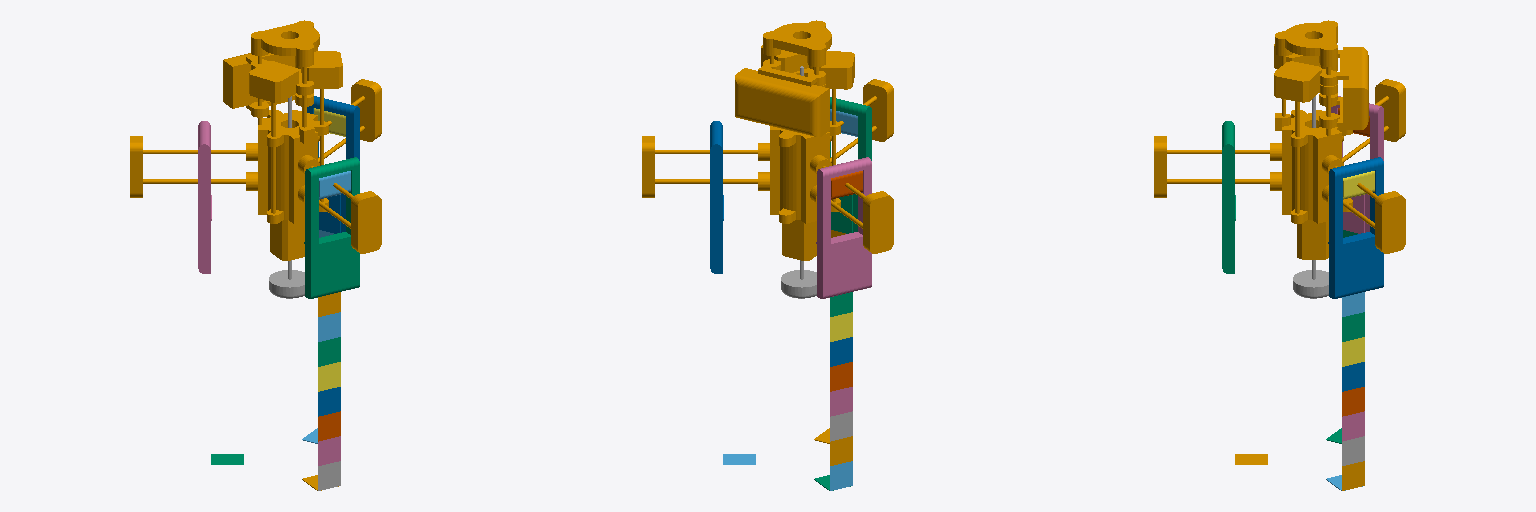
--- Render facts (derived) ---
3 views of the same robot in one strip: view 1: azimuth 30°, elevation 25°; view 2: azimuth 150°, elevation 25°; view 3: azimuth 270°, elevation 25° (orthographic).
Model gripper with 36 links and 35 joints (27 revolute, 4 prismatic, 4 fixed), rooted at world, posed all joints at 0 but 3 set to mid-range because 0 is outside their limits (finger_1_prismatic_joint = 0.0915, finger_2_prismatic_joint = 0.0915, finger_3_prismatic_joint = 0.0915).
Links seen in each view (by area): view 1: gripper_base_link, finger_1, finger_3, finger_2, palm, finger_1_intermediate, finger_1_segment_link_2, finger_1_segment_link_8, finger_1_segment_link_5, finger_1_segment_link_4, finger_1_segment_link_3, finger_1_segment_link_6 (+1 smaller); view 2: gripper_base_link, finger_3, finger_2, finger_1, palm, finger_3_intermediate, finger_3_segment_link_2, finger_3_segment_link_8, finger_3_segment_link_5, finger_3_segment_link_4, finger_3_segment_link_3, finger_3_segment_link_6 (+1 smaller); view 3: gripper_base_link, finger_2, finger_1, finger_3, palm, finger_2_intermediate, finger_2_segment_link_2, finger_2_segment_link_8, finger_2_segment_link_5, finger_2_segment_link_4, finger_2_segment_link_3, finger_2_segment_link_6 (+1 smaller).
Link boxes in pixels (<box>): gripper_base_link: <box>130,20,381,260</box>; finger_1: <box>304,157,359,298</box>; finger_3: <box>198,121,211,273</box>; finger_2: <box>307,96,359,233</box>; palm: <box>269,96,304,298</box>; finger_1_intermediate: <box>319,171,350,199</box>; finger_1_segment_link_2: <box>318,312,340,341</box>; finger_1_segment_link_8: <box>318,461,340,490</box>; finger_1_segment_link_5: <box>318,387,340,416</box>; finger_1_segment_link_4: <box>318,362,340,391</box>; finger_1_segment_link_3: <box>318,337,340,366</box>; finger_1_segment_link_6: <box>318,411,340,441</box>; gripper_base_link: <box>642,20,893,260</box>; finger_3: <box>816,157,871,298</box>; finger_2: <box>710,121,723,273</box>; finger_1: <box>830,97,871,233</box>; palm: <box>781,66,816,298</box>; finger_3_intermediate: <box>831,171,862,199</box>; finger_3_segment_link_2: <box>830,312,852,341</box>; finger_3_segment_link_8: <box>830,461,852,490</box>; finger_3_segment_link_5: <box>830,387,852,416</box>; finger_3_segment_link_4: <box>830,362,852,391</box>; finger_3_segment_link_3: <box>830,337,852,366</box>; finger_3_segment_link_6: <box>830,411,852,441</box>; gripper_base_link: <box>1154,20,1405,259</box>; finger_2: <box>1328,157,1383,298</box>; finger_1: <box>1222,121,1235,273</box>; finger_3: <box>1331,96,1383,233</box>; palm: <box>1293,96,1328,298</box>; finger_2_intermediate: <box>1343,171,1374,199</box>; finger_2_segment_link_2: <box>1342,312,1364,341</box>; finger_2_segment_link_8: <box>1342,461,1364,490</box>; finger_2_segment_link_5: <box>1342,387,1364,416</box>; finger_2_segment_link_4: <box>1342,362,1364,391</box>; finger_2_segment_link_3: <box>1342,337,1364,366</box>; finger_2_segment_link_6: <box>1342,411,1364,441</box>.
Size in the robot's own frame: 0.3116 by 0.2699 by 0.5023 metres.
8 mesh visuals loaded from 4 distinct referenced files (4 binary STL).

URDF robot description (gripper):
<?xml version="1.0" ?>
<!-- =================================================================================== -->
<!-- |    This document was autogenerated by xacro from gripper.urdf.xacro             | -->
<!-- |    EDITING THIS FILE BY HAND IS NOT RECOMMENDED                                 | -->
<!-- =================================================================================== -->
<robot name="gripper">
  <!-- PARAMETERS TO BE SET BY HAND -->
  <!-- END OF PARAMETERS TO BE SET BY HAND -->
  <!-- PARAMETERS TO BE SET BY HAND -->
  <!-- END OF PARAMETER TO BE SET BY HAND -->
  <!-- BASE LINK -->
  <link name="gripper_base_link">
    <inertial>
      <mass value="1.5"/>
      <origin rpy="3.141592653589793 0 0" xyz="0 0 0.025"/>
      <inertia ixx="9.95e-3" ixy="2.73e-6" ixz="-14.32e-6" iyy="10.08e-3" iyz="121.38e-6" izz="5.13e-3"/>
    </inertial>
    <visual>
      <geometry>
        <mesh filename="package://gripper_description/meshes/main body visual.STL"/>
      </geometry>
    </visual>
    <collision>
      <geometry>
        <!--          <mesh filename="package://gripper_description/meshes/main body collision.STL"/>-->
        <cylinder length="0.1" radius="0.03"/>
      </geometry>
    </collision>
  </link>
  <!-- Intermediate link for prismatic joint -->
  <link name="finger_1_intermediate">
    <inertial>
      <mass value="0.1"/>
      <origin rpy="0 0 0" xyz="0 0 0"/>
      <inertia ixx="55.59e-6" ixy="-47.23e-6" ixz="1.16e-6" iyy="146.36e-6" iyz="1.00e-6" izz="154.18e-6"/>
    </inertial>
    <visual>
      <geometry>
        <mesh filename="package://gripper_description/meshes/nut visual.STL"/>
      </geometry>
    </visual>
    <collision>
      <geometry>
        <mesh filename="package://gripper_description/meshes/nut collision.STL"/>
      </geometry>
    </collision>
  </link>
  <!-- Main finger link -->
  <link name="finger_1">
    <inertial>
      <mass value="0.1"/>
      <origin rpy="0 0 0" xyz="0 0 0"/>
      <inertia ixx="55.59e-6" ixy="-47.23e-6" ixz="1.16e-6" iyy="146.36e-6" iyz="1.00e-6" izz="154.18e-6"/>
    </inertial>
    <visual>
      <geometry>
        <mesh filename="package://gripper_description/meshes/platform only visual.STL"/>
      </geometry>
    </visual>
    <collision>
      <geometry>
        <mesh filename="package://gripper_description/meshes/platform only collision.STL"/>
      </geometry>
    </collision>
  </link>
  <joint name="finger_1_prismatic_joint" type="prismatic">
    <axis rpy="0 0 0" xyz="0 1 0"/>
    <parent link="gripper_base_link"/>
    <child link="finger_1_intermediate"/>
    <origin rpy="4.71238898038469                    4.71238898038469                    1.5707963267948966" xyz="0.0                    0.0                    0"/>
    <limit effort="40.0" lower="0.049" upper="0.134" velocity="0.015"/>
    <dynamics damping="1.0"/>
  </joint>
  <joint name="finger_1_revolute_joint" type="revolute">
    <axis rpy="0 0 0" xyz="0 0 1"/>
    <parent link="finger_1_intermediate"/>
    <child link="finger_1"/>
    <origin rpy="0 0 0.0" xyz="0 0 0"/>
    <limit effort="40.0" lower="-0.7" upper="0.7" velocity="0.1"/>
    <dynamics damping="1.0"/>
  </joint>
  <!-- Intermediate link for prismatic joint -->
  <link name="finger_2_intermediate">
    <inertial>
      <mass value="0.1"/>
      <origin rpy="0 0 0" xyz="0 0 0"/>
      <inertia ixx="55.59e-6" ixy="-47.23e-6" ixz="1.16e-6" iyy="146.36e-6" iyz="1.00e-6" izz="154.18e-6"/>
    </inertial>
    <visual>
      <geometry>
        <mesh filename="package://gripper_description/meshes/nut visual.STL"/>
      </geometry>
    </visual>
    <collision>
      <geometry>
        <mesh filename="package://gripper_description/meshes/nut collision.STL"/>
      </geometry>
    </collision>
  </link>
  <!-- Main finger link -->
  <link name="finger_2">
    <inertial>
      <mass value="0.1"/>
      <origin rpy="0 0 0" xyz="0 0 0"/>
      <inertia ixx="55.59e-6" ixy="-47.23e-6" ixz="1.16e-6" iyy="146.36e-6" iyz="1.00e-6" izz="154.18e-6"/>
    </inertial>
    <visual>
      <geometry>
        <mesh filename="package://gripper_description/meshes/platform only visual.STL"/>
      </geometry>
    </visual>
    <collision>
      <geometry>
        <mesh filename="package://gripper_description/meshes/platform only collision.STL"/>
      </geometry>
    </collision>
  </link>
  <joint name="finger_2_prismatic_joint" type="prismatic">
    <axis rpy="0 0 0" xyz="0 1 0"/>
    <parent link="gripper_base_link"/>
    <child link="finger_2_intermediate"/>
    <origin rpy="4.71238898038469                    4.71238898038469                    -0.5235987755982987" xyz="0.0                    -0.0                    0"/>
    <limit effort="40.0" lower="0.049" upper="0.134" velocity="0.015"/>
    <dynamics damping="1.0"/>
  </joint>
  <joint name="finger_2_revolute_joint" type="revolute">
    <axis rpy="0 0 0" xyz="0 0 1"/>
    <parent link="finger_2_intermediate"/>
    <child link="finger_2"/>
    <origin rpy="0 0 0.0" xyz="0 0 0"/>
    <limit effort="40.0" lower="-0.7" upper="0.7" velocity="0.1"/>
    <dynamics damping="1.0"/>
  </joint>
  <!-- Intermediate link for prismatic joint -->
  <link name="finger_3_intermediate">
    <inertial>
      <mass value="0.1"/>
      <origin rpy="0 0 0" xyz="0 0 0"/>
      <inertia ixx="55.59e-6" ixy="-47.23e-6" ixz="1.16e-6" iyy="146.36e-6" iyz="1.00e-6" izz="154.18e-6"/>
    </inertial>
    <visual>
      <geometry>
        <mesh filename="package://gripper_description/meshes/nut visual.STL"/>
      </geometry>
    </visual>
    <collision>
      <geometry>
        <mesh filename="package://gripper_description/meshes/nut collision.STL"/>
      </geometry>
    </collision>
  </link>
  <!-- Main finger link -->
  <link name="finger_3">
    <inertial>
      <mass value="0.1"/>
      <origin rpy="0 0 0" xyz="0 0 0"/>
      <inertia ixx="55.59e-6" ixy="-47.23e-6" ixz="1.16e-6" iyy="146.36e-6" iyz="1.00e-6" izz="154.18e-6"/>
    </inertial>
    <visual>
      <geometry>
        <mesh filename="package://gripper_description/meshes/platform only visual.STL"/>
      </geometry>
    </visual>
    <collision>
      <geometry>
        <mesh filename="package://gripper_description/meshes/platform only collision.STL"/>
      </geometry>
    </collision>
  </link>
  <joint name="finger_3_prismatic_joint" type="prismatic">
    <axis rpy="0 0 0" xyz="0 1 0"/>
    <parent link="gripper_base_link"/>
    <child link="finger_3_intermediate"/>
    <origin rpy="4.71238898038469                    4.71238898038469                    -2.617993877991494" xyz="-0.0                    -0.0                    0"/>
    <limit effort="40.0" lower="0.049" upper="0.134" velocity="0.015"/>
    <dynamics damping="1.0"/>
  </joint>
  <joint name="finger_3_revolute_joint" type="revolute">
    <axis rpy="0 0 0" xyz="0 0 1"/>
    <parent link="finger_3_intermediate"/>
    <child link="finger_3"/>
    <origin rpy="0 0 0.0" xyz="0 0 0"/>
    <limit effort="40.0" lower="-0.7" upper="0.7" velocity="0.1"/>
    <dynamics damping="1.0"/>
  </joint>
  <!-- PALM -->
  <link name="palm">
    <inertial>
      <mass value="0.05"/>
      <origin rpy="0 0 0" xyz="0 0 0"/>
      <inertia ixx="10.0e-6" ixy="0.0" ixz="0.0" iyy="10.0e-6" iyz="0.0" izz="10.0e-6"/>
    </inertial>
    <visual>
      <origin rpy="0 0 0" xyz="0 0 0"/>
      <geometry>
        <mesh filename="package://gripper_description/meshes/palm visual.STL"/>
      </geometry>
    </visual>
    <collision>
      <geometry>
        <mesh filename="package://gripper_description/meshes/palm collision.STL"/>
      </geometry>
    </collision>
  </link>
  <joint name="palm_prismatic_joint" type="prismatic">
    <axis rpy="0 0 0" xyz="1 0 0"/>
    <parent link="gripper_base_link"/>
    <child link="palm"/>
    <origin rpy="0 -1.5707963267948966 0" xyz="0 0 0"/>
    <limit effort="40.0" lower="0.0" upper="0.165" velocity="0.036"/>
    <dynamics damping="1.0"/>
  </joint>
  <!-- PARAMETERS TO BE SET BY HAND -->
  <!-- END OF PARAMETERS TO BE SET BY HAND -->
  <joint name="finger_1_segment_joint_0" type="revolute">
    <origin rpy="1.5707963267948966 0 0" xyz="0.129 -0.007 0"/>
    <parent link="finger_1"/>
    <child link="finger_1_segment_link_1"/>
    <axis rpy="0 0 0" xyz="0 1 0"/>
    <limit effort="1000.0" lower="-1.0" upper="1.0" velocity="1.0"/>
    <dynamics damping="0.01" friction="0.0"/>
  </joint>
  <!-- END TESTING OF BASE JOINT (rather than fixed) -->
  <link name="finger_1_segment_link_1">
    <inertial>
      <mass value="0.008159722222222221"/>
      <inertia ixx="2.668263165509259e-05" ixy="0.00" ixz="0.00" iyy="0.00011737666919849533" iyz="0.00" izz="0.00014400422272858792"/>
    </inertial>
    <visual>
      <origin rpy="0 0 0" xyz="0.0146875 0 0"/>
      <geometry>
        <box size="0.029375 0.028 0.0009"/>
      </geometry>
    </visual>
    <collision>
      <origin rpy="0 0 0" xyz="0.0146875 0 0"/>
      <geometry>
        <box size="0.029375 0.028 0.0009"/>
      </geometry>
    </collision>
  </link>
  <gazebo reference="finger_1_segment_link_1">
    <material>Gazebo/Orange</material>
    <mu1>0.1</mu1>
    <mu2>0.1</mu2>
    <maxVel>0.0</maxVel>
    <minDepth>0.001</minDepth>
    <!-- <kp>100</kp>
        <kd>1</kd> -->
  </gazebo>
  <link name="finger_1_segment_link_2">
    <inertial>
      <mass value="0.008159722222222221"/>
      <inertia ixx="2.668263165509259e-05" ixy="0.00" ixz="0.00" iyy="0.00011737666919849533" iyz="0.00" izz="0.00014400422272858792"/>
    </inertial>
    <visual>
      <origin rpy="0 0 0" xyz="0.0146875 0 0"/>
      <geometry>
        <box size="0.029375 0.028 0.0009"/>
      </geometry>
    </visual>
    <collision>
      <origin rpy="0 0 0" xyz="0.0146875 0 0"/>
      <geometry>
        <box size="0.029375 0.028 0.0009"/>
      </geometry>
    </collision>
  </link>
  <gazebo reference="finger_1_segment_link_2">
    <material>Gazebo/Orange</material>
    <mu1>0.1</mu1>
    <mu2>0.1</mu2>
    <maxVel>0.0</maxVel>
    <minDepth>0.001</minDepth>
    <!-- <kp>100</kp>
        <kd>1</kd> -->
  </gazebo>
  <!-- bending joint -->
  <joint name="finger_1_segment_joint_1" type="revolute">
    <axis rpy="0 0 0" xyz="0 1 0"/>
    <parent link="finger_1_segment_link_1"/>
    <child link="finger_1_segment_link_2"/>
    <origin rpy="0 0 0" xyz="0.029375 0 0"/>
    <limit effort="1000.0" lower="-1.0" upper="1.0" velocity="1.0"/>
    <dynamics damping="0.01" friction="0.0"/>
  </joint>
  <gazebo reference="finger_1_segment_joint_1">
    <provideFeedback>1</provideFeedback>
    <springReference>0.0</springReference>
    <implicitSpringDamper>1</implicitSpringDamper>
    <springStiffness>3.0</springStiffness>
  </gazebo>
  <!-- set transmission for gazebo ROS controllers-->
  <transmission name="finger_1_segment_tran_1">
    <type>transmission_interface/SimpleTransmission</type>
    <joint name="finger_1_segment_joint_1">
      <hardwareInterface>hardware_interface/EffortJointInterface</hardwareInterface>
    </joint>
    <actuator name="finger_1_segment_motor_1">
      <hardwareInterface>hardware_interface/EffortJointInterface</hardwareInterface>
      <mechanicalReduction>1</mechanicalReduction>
    </actuator>
  </transmission>
  <link name="finger_1_segment_link_3">
    <inertial>
      <mass value="0.008159722222222221"/>
      <inertia ixx="2.668263165509259e-05" ixy="0.00" ixz="0.00" iyy="0.00011737666919849533" iyz="0.00" izz="0.00014400422272858792"/>
    </inertial>
    <visual>
      <origin rpy="0 0 0" xyz="0.0146875 0 0"/>
      <geometry>
        <box size="0.029375 0.028 0.0009"/>
      </geometry>
    </visual>
    <collision>
      <origin rpy="0 0 0" xyz="0.0146875 0 0"/>
      <geometry>
        <box size="0.029375 0.028 0.0009"/>
      </geometry>
    </collision>
  </link>
  <gazebo reference="finger_1_segment_link_3">
    <material>Gazebo/Orange</material>
    <mu1>0.1</mu1>
    <mu2>0.1</mu2>
    <maxVel>0.0</maxVel>
    <minDepth>0.001</minDepth>
    <!-- <kp>100</kp>
        <kd>1</kd> -->
  </gazebo>
  <!-- bending joint -->
  <joint name="finger_1_segment_joint_2" type="revolute">
    <axis rpy="0 0 0" xyz="0 1 0"/>
    <parent link="finger_1_segment_link_2"/>
    <child link="finger_1_segment_link_3"/>
    <origin rpy="0 0 0" xyz="0.029375 0 0"/>
    <limit effort="1000.0" lower="-1.0" upper="1.0" velocity="1.0"/>
    <dynamics damping="0.01" friction="0.0"/>
  </joint>
  <gazebo reference="finger_1_segment_joint_2">
    <provideFeedback>1</provideFeedback>
    <springReference>0.0</springReference>
    <implicitSpringDamper>1</implicitSpringDamper>
    <springStiffness>3.0</springStiffness>
  </gazebo>
  <!-- set transmission for gazebo ROS controllers-->
  <transmission name="finger_1_segment_tran_2">
    <type>transmission_interface/SimpleTransmission</type>
    <joint name="finger_1_segment_joint_2">
      <hardwareInterface>hardware_interface/EffortJointInterface</hardwareInterface>
    </joint>
    <actuator name="finger_1_segment_motor_2">
      <hardwareInterface>hardware_interface/EffortJointInterface</hardwareInterface>
      <mechanicalReduction>1</mechanicalReduction>
    </actuator>
  </transmission>
  <link name="finger_1_segment_link_4">
    <inertial>
      <mass value="0.008159722222222221"/>
      <inertia ixx="2.668263165509259e-05" ixy="0.00" ixz="0.00" iyy="0.00011737666919849533" iyz="0.00" izz="0.00014400422272858792"/>
    </inertial>
    <visual>
      <origin rpy="0 0 0" xyz="0.0146875 0 0"/>
      <geometry>
        <box size="0.029375 0.028 0.0009"/>
      </geometry>
    </visual>
    <collision>
      <origin rpy="0 0 0" xyz="0.0146875 0 0"/>
      <geometry>
        <box size="0.029375 0.028 0.0009"/>
      </geometry>
    </collision>
  </link>
  <gazebo reference="finger_1_segment_link_4">
    <material>Gazebo/Orange</material>
    <mu1>0.1</mu1>
    <mu2>0.1</mu2>
    <maxVel>0.0</maxVel>
    <minDepth>0.001</minDepth>
    <!-- <kp>100</kp>
        <kd>1</kd> -->
  </gazebo>
  <!-- bending joint -->
  <joint name="finger_1_segment_joint_3" type="revolute">
    <axis rpy="0 0 0" xyz="0 1 0"/>
    <parent link="finger_1_segment_link_3"/>
    <child link="finger_1_segment_link_4"/>
    <origin rpy="0 0 0" xyz="0.029375 0 0"/>
    <limit effort="1000.0" lower="-1.0" upper="1.0" velocity="1.0"/>
    <dynamics damping="0.01" friction="0.0"/>
  </joint>
  <gazebo reference="finger_1_segment_joint_3">
    <provideFeedback>1</provideFeedback>
    <springReference>0.0</springReference>
    <implicitSpringDamper>1</implicitSpringDamper>
    <springStiffness>3.0</springStiffness>
  </gazebo>
  <!-- set transmission for gazebo ROS controllers-->
  <transmission name="finger_1_segment_tran_3">
    <type>transmission_interface/SimpleTransmission</type>
    <joint name="finger_1_segment_joint_3">
      <hardwareInterface>hardware_interface/EffortJointInterface</hardwareInterface>
    </joint>
    <actuator name="finger_1_segment_motor_3">
      <hardwareInterface>hardware_interface/EffortJointInterface</hardwareInterface>
      <mechanicalReduction>1</mechanicalReduction>
    </actuator>
  </transmission>
  <link name="finger_1_segment_link_5">
    <inertial>
      <mass value="0.008159722222222221"/>
      <inertia ixx="2.668263165509259e-05" ixy="0.00" ixz="0.00" iyy="0.00011737666919849533" iyz="0.00" izz="0.00014400422272858792"/>
    </inertial>
    <visual>
      <origin rpy="0 0 0" xyz="0.0146875 0 0"/>
      <geometry>
        <box size="0.029375 0.028 0.0009"/>
      </geometry>
    </visual>
    <collision>
      <origin rpy="0 0 0" xyz="0.0146875 0 0"/>
      <geometry>
        <box size="0.029375 0.028 0.0009"/>
      </geometry>
    </collision>
  </link>
  <gazebo reference="finger_1_segment_link_5">
    <material>Gazebo/Orange</material>
    <mu1>0.1</mu1>
    <mu2>0.1</mu2>
    <maxVel>0.0</maxVel>
    <minDepth>0.001</minDepth>
    <!-- <kp>100</kp>
        <kd>1</kd> -->
  </gazebo>
  <!-- bending joint -->
  <joint name="finger_1_segment_joint_4" type="revolute">
    <axis rpy="0 0 0" xyz="0 1 0"/>
    <parent link="finger_1_segment_link_4"/>
    <child link="finger_1_segment_link_5"/>
    <origin rpy="0 0 0" xyz="0.029375 0 0"/>
    <limit effort="1000.0" lower="-1.0" upper="1.0" velocity="1.0"/>
    <dynamics damping="0.01" friction="0.0"/>
  </joint>
  <gazebo reference="finger_1_segment_joint_4">
    <provideFeedback>1</provideFeedback>
    <springReference>0.0</springReference>
    <implicitSpringDamper>1</implicitSpringDamper>
    <springStiffness>3.0</springStiffness>
  </gazebo>
  <!-- set transmission for gazebo ROS controllers-->
  <transmission name="finger_1_segment_tran_4">
    <type>transmission_interface/SimpleTransmission</type>
    <joint name="finger_1_segment_joint_4">
      <hardwareInterface>hardware_interface/EffortJointInterface</hardwareInterface>
    </joint>
    <actuator name="finger_1_segment_motor_4">
      <hardwareInterface>hardware_interface/EffortJointInterface</hardwareInterface>
      <mechanicalReduction>1</mechanicalReduction>
    </actuator>
  </transmission>
  <link name="finger_1_segment_link_6">
    <inertial>
      <mass value="0.008159722222222221"/>
      <inertia ixx="2.668263165509259e-05" ixy="0.00" ixz="0.00" iyy="0.00011737666919849533" iyz="0.00" izz="0.00014400422272858792"/>
    </inertial>
    <visual>
      <origin rpy="0 0 0" xyz="0.0146875 0 0"/>
      <geometry>
        <box size="0.029375 0.028 0.0009"/>
      </geometry>
    </visual>
    <collision>
      <origin rpy="0 0 0" xyz="0.0146875 0 0"/>
      <geometry>
        <box size="0.029375 0.028 0.0009"/>
      </geometry>
    </collision>
  </link>
  <gazebo reference="finger_1_segment_link_6">
    <material>Gazebo/Orange</material>
    <mu1>0.1</mu1>
    <mu2>0.1</mu2>
    <maxVel>0.0</maxVel>
    <minDepth>0.001</minDepth>
    <!-- <kp>100</kp>
        <kd>1</kd> -->
  </gazebo>
  <!-- bending joint -->
  <joint name="finger_1_segment_joint_5" type="revolute">
    <axis rpy="0 0 0" xyz="0 1 0"/>
    <parent link="finger_1_segment_link_5"/>
    <child link="finger_1_segment_link_6"/>
    <origin rpy="0 0 0" xyz="0.029375 0 0"/>
    <limit effort="1000.0" lower="-1.0" upper="1.0" velocity="1.0"/>
    <dynamics damping="0.01" friction="0.0"/>
  </joint>
  <gazebo reference="finger_1_segment_joint_5">
    <provideFeedback>1</provideFeedback>
    <springReference>0.0</springReference>
    <implicitSpringDamper>1</implicitSpringDamper>
    <springStiffness>3.0</springStiffness>
  </gazebo>
  <!-- set transmission for gazebo ROS controllers-->
  <transmission name="finger_1_segment_tran_5">
    <type>transmission_interface/SimpleTransmission</type>
    <joint name="finger_1_segment_joint_5">
      <hardwareInterface>hardware_interface/EffortJointInterface</hardwareInterface>
    </joint>
    <actuator name="finger_1_segment_motor_5">
      <hardwareInterface>hardware_interface/EffortJointInterface</hardwareInterface>
      <mechanicalReduction>1</mechanicalReduction>
    </actuator>
  </transmission>
  <link name="finger_1_segment_link_7">
    <inertial>
      <mass value="0.008159722222222221"/>
      <inertia ixx="2.668263165509259e-05" ixy="0.00" ixz="0.00" iyy="0.00011737666919849533" iyz="0.00" izz="0.00014400422272858792"/>
    </inertial>
    <visual>
      <origin rpy="0 0 0" xyz="0.0146875 0 0"/>
      <geometry>
        <box size="0.029375 0.028 0.0009"/>
      </geometry>
    </visual>
    <collision>
      <origin rpy="0 0 0" xyz="0.0146875 0 0"/>
      <geometry>
        <box size="0.029375 0.028 0.0009"/>
      </geometry>
    </collision>
  </link>
  <gazebo reference="finger_1_segment_link_7">
    <material>Gazebo/Orange</material>
    <mu1>0.1</mu1>
    <mu2>0.1</mu2>
    <maxVel>0.0</maxVel>
    <minDepth>0.001</minDepth>
    <!-- <kp>100</kp>
        <kd>1</kd> -->
  </gazebo>
  <!-- bending joint -->
  <joint name="finger_1_segment_joint_6" type="revolute">
    <axis rpy="0 0 0" xyz="0 1 0"/>
    <parent link="finger_1_segment_link_6"/>
    <child link="finger_1_segment_link_7"/>
    <origin rpy="0 0 0" xyz="0.029375 0 0"/>
    <limit effort="1000.0" lower="-1.0" upper="1.0" velocity="1.0"/>
    <dynamics damping="0.01" friction="0.0"/>
  </joint>
  <gazebo reference="finger_1_segment_joint_6">
    <provideFeedback>1</provideFeedback>
    <springReference>0.0</springReference>
    <implicitSpringDamper>1</implicitSpringDamper>
    <springStiffness>3.0</springStiffness>
  </gazebo>
  <!-- set transmission for gazebo ROS controllers-->
  <transmission name="finger_1_segment_tran_6">
    <type>transmission_interface/SimpleTransmission</type>
    <joint name="finger_1_segment_joint_6">
      <hardwareInterface>hardware_interface/EffortJointInterface</hardwareInterface>
    </joint>
    <actuator name="finger_1_segment_motor_6">
      <hardwareInterface>hardware_interface/EffortJointInterface</hardwareInterface>
      <mechanicalReduction>1</mechanicalReduction>
    </actuator>
  </transmission>
  <link name="finger_1_segment_link_8">
    <inertial>
      <mass value="0.008159722222222221"/>
      <inertia ixx="2.668263165509259e-05" ixy="0.00" ixz="0.00" iyy="0.00011737666919849533" iyz="0.00" izz="0.00014400422272858792"/>
    </inertial>
    <visual>
      <origin rpy="0 0 0" xyz="0.0146875 0 0"/>
      <geometry>
        <box size="0.029375 0.028 0.0009"/>
      </geometry>
    </visual>
    <collision>
      <origin rpy="0 0 0" xyz="0.0146875 0 0"/>
      <geometry>
        <box size="0.029375 0.028 0.0009"/>
      </geometry>
    </collision>
  </link>
  <gazebo reference="finger_1_segment_link_8">
    <material>Gazebo/Orange</material>
    <mu1>0.1</mu1>
    <mu2>0.1</mu2>
    <maxVel>0.0</maxVel>
    <minDepth>0.001</minDepth>
    <!-- <kp>100</kp>
        <kd>1</kd> -->
  </gazebo>
  <!-- bending joint -->
  <joint name="finger_1_segment_joint_7" type="revolute">
    <axis rpy="0 0 0" xyz="0 1 0"/>
    <parent link="finger_1_segment_link_7"/>
    <child link="finger_1_segment_link_8"/>
    <origin rpy="0 0 0" xyz="0.029375 0 0"/>
    <limit effort="1000.0" lower="-1.0" upper="1.0" velocity="1.0"/>
    <dynamics damping="0.01" friction="0.0"/>
  </joint>
  <gazebo reference="finger_1_segment_joint_7">
    <provideFeedback>1</provideFeedback>
    <springReference>0.0</springReference>
    <implicitSpringDamper>1</implicitSpringDamper>
    <springStiffness>3.0</springStiffness>
  </gazebo>
  <!-- set transmission for gazebo ROS controllers-->
  <transmission name="finger_1_segment_tran_7">
    <type>transmission_interface/SimpleTransmission</type>
    <joint name="finger_1_segment_joint_7">
      <hardwareInterface>hardware_interface/EffortJointInterface</hardwareInterface>
    </joint>
    <actuator name="finger_1_segment_motor_7">
      <hardwareInterface>hardware_interface/EffortJointInterface</hardwareInterface>
      <mechanicalReduction>1</mechanicalReduction>
    </actuator>
  </transmission>
  <!-- Add the finger hook link -->
  <link name="finger_1_finger_hook_link">
    <inertial>
      <mass value="0.009722222222222222"/>
      <inertia ixx="3.179207175925926e-05" ixy="0.00" ixz="0.00" iyy="0.00019852818287037038" iyz="0.00" izz="0.00023025462962962965"/>
    </inertial>
    <visual>
      <origin rpy="0 0 0" xyz="0.0175 0 0"/>
      <geometry>
        <box size="0.035 0.028 0.0009"/>
      </geometry>
    </visual>
    <collision>
      <origin rpy="0 0 0" xyz="0.0175 0 0"/>
      <geometry>
        <box size="0.035 0.028 0.0009"/>
      </geometry>
    </collision>
  </link>
  <gazebo reference="finger_1_finger_hook_link">
    <material>Gazebo/Orange</material>
    <mu1>0.1</mu1>
    <mu2>0.1</mu2>
    <maxVel>0.0</maxVel>
    <minDepth>0.001</minDepth>
    <!-- <kp>100</kp>
        <kd>1</kd> -->
  </gazebo>
  <joint name="finger_1_finger_hook_joint" type="fixed">
    <parent link="finger_1_segment_link_8"/>
    <child link="finger_1_finger_hook_link"/>
    <origin rpy="0 -1.5707963267948502 0" xyz="0.029375 0 0"/>
  </joint>
  <!-- PARAMETERS TO BE SET BY HAND -->
  <!-- END OF PARAMETERS TO BE SET BY HAND -->
  <joint name="finger_2_segment_joint_0" type="revolute">
    <origin rpy="1.5707963267948966 0 0" xyz="0.129 -0.007 0"/>
    <parent link="finger_2"/>
    <child link="finger_2_segment_link_1"/>
    <axis rpy="0 0 0" xyz="0 1 0"/>
    <limit effort="1000.0" lower="-1.0" upper="1.0" velocity="1.0"/>
    <dynamics damping="0.01" friction="0.0"/>
  </joint>
  <!-- END TESTING OF BASE JOINT (rather than fixed) -->
  <link name="finger_2_segment_link_1">
    <inertial>
      <mass value="0.008159722222222221"/>
      <inertia ixx="2.668263165509259e-05" ixy="0.00" ixz="0.00" iyy="0.00011737666919849533" iyz="0.00" izz="0.00014400422272858792"/>
    </inertial>
    <visual>
      <origin rpy="0 0 0" xyz="0.0146875 0 0"/>
      <geometry>
        <box size="0.029375 0.028 0.0009"/>
      </geometry>
    </visual>
    <collision>
      <origin rpy="0 0 0" xyz="0.0146875 0 0"/>
      <geometry>
        <box size="0.029375 0.028 0.0009"/>
      </geometry>
    </collision>
  </link>
  <gazebo reference="finger_2_segment_link_1">
    <material>Gazebo/Orange</material>
    <mu1>0.1</mu1>
    <mu2>0.1</mu2>
    <maxVel>0.0</maxVel>
    <minDepth>0.001</minDepth>
    <!-- <kp>100</kp>
        <kd>1</kd> -->
  </gazebo>
  <link name="finger_2_segment_link_2">
    <inertial>
      <mass value="0.008159722222222221"/>
      <inertia ixx="2.668263165509259e-05" ixy="0.00" ixz="0.00" iyy="0.00011737666919849533" iyz="0.00" izz="0.00014400422272858792"/>
    </inertial>
    <visual>
      <origin rpy="0 0 0" xyz="0.0146875 0 0"/>
      <geometry>
        <box size="0.029375 0.028 0.0009"/>
      </geometry>
    </visual>
    <collision>
      <origin rpy="0 0 0" xyz="0.0146875 0 0"/>
      <geometry>
        <box size="0.029375 0.028 0.0009"/>
      </geometry>
    </collision>
  </link>
  <gazebo reference="finger_2_segment_link_2">
    <material>Gazebo/Orange</material>
    <mu1>0.1</mu1>
    <mu2>0.1</mu2>
    <maxVel>0.0</maxVel>
    <minDepth>0.001</minDepth>
    <!-- <kp>100</kp>
        <kd>1</kd> -->
  </gazebo>
  <!-- bending joint -->
  <joint name="finger_2_segment_joint_1" type="revolute">
    <axis rpy="0 0 0" xyz="0 1 0"/>
    <parent link="finger_2_segment_link_1"/>
    <child link="finger_2_segment_link_2"/>
    <origin rpy="0 0 0" xyz="0.029375 0 0"/>
    <limit effort="1000.0" lower="-1.0" upper="1.0" velocity="1.0"/>
    <dynamics damping="0.01" friction="0.0"/>
  </joint>
  <gazebo reference="finger_2_segment_joint_1">
    <provideFeedback>1</provideFeedback>
    <springReference>0.0</springReference>
    <implicitSpringDamper>1</implicitSpringDamper>
    <springStiffness>3.0</springStiffness>
  </gazebo>
  <!-- set transmission for gazebo ROS controllers-->
  <transmission name="finger_2_segment_tran_1">
    <type>transmission_interface/SimpleTransmission</type>
    <joint name="finger_2_segment_joint_1">
      <hardwareInterface>hardware_interface/EffortJointInterface</hardwareInterface>
    </joint>
    <actuator name="finger_2_segment_motor_1">
      <hardwareInterface>hardware_interface/EffortJointInterface</hardwareInterface>
      <mechanicalReduction>1</mechanicalReduction>
    </actuator>
  </transmission>
  <link name="finger_2_segment_link_3">
    <inertial>
      <mass value="0.008159722222222221"/>
      <inertia ixx="2.668263165509259e-05" ixy="0.00" ixz="0.00" iyy="0.00011737666919849533" iyz="0.00" izz="0.00014400422272858792"/>
    </inertial>
    <visual>
      <origin rpy="0 0 0" xyz="0.0146875 0 0"/>
      <geometry>
        <box size="0.029375 0.028 0.0009"/>
      </geometry>
    </visual>
    <collision>
      <origin rpy="0 0 0" xyz="0.0146875 0 0"/>
      <geometry>
        <box size="0.029375 0.028 0.0009"/>
      </geometry>
    </collision>
  </link>
  <gazebo reference="finger_2_segment_link_3">
    <material>Gazebo/Orange</material>
    <mu1>0.1</mu1>
    <mu2>0.1</mu2>
    <maxVel>0.0</maxVel>
    <minDepth>0.001</minDepth>
    <!-- <kp>100</kp>
        <kd>1</kd> -->
  </gazebo>
  <!-- bending joint -->
  <joint name="finger_2_segment_joint_2" type="revolute">
    <axis rpy="0 0 0" xyz="0 1 0"/>
    <parent link="finger_2_segment_link_2"/>
    <child link="finger_2_segment_link_3"/>
    <origin rpy="0 0 0" xyz="0.029375 0 0"/>
    <limit effort="1000.0" lower="-1.0" upper="1.0" velocity="1.0"/>
    <dynamics damping="0.01" friction="0.0"/>
  </joint>
  <gazebo reference="finger_2_segment_joint_2">
    <provideFeedback>1</provideFeedback>
    <springReference>0.0</springReference>
    <implicitSpringDamper>1</implicitSpringDamper>
    <springStiffness>3.0</springStiffness>
  </gazebo>
  <!-- set transmission for gazebo ROS controllers-->
  <transmission name="finger_2_segment_tran_2">
    <type>transmission_interface/SimpleTransmission</type>
    <joint name="finger_2_segment_joint_2">
      <hardwareInterface>hardware_interface/EffortJointInterface</hardwareInterface>
    </joint>
    <actuator name="finger_2_segment_motor_2">
      <hardwareInterface>hardware_interface/EffortJointInterface</hardwareInterface>
      <mechanicalReduction>1</mechanicalReduction>
    </actuator>
  </transmission>
  <link name="finger_2_segment_link_4">
    <inertial>
      <mass value="0.008159722222222221"/>
      <inertia ixx="2.668263165509259e-05" ixy="0.00" ixz="0.00" iyy="0.00011737666919849533" iyz="0.00" izz="0.00014400422272858792"/>
    </inertial>
    <visual>
      <origin rpy="0 0 0" xyz="0.0146875 0 0"/>
      <geometry>
        <box size="0.029375 0.028 0.0009"/>
      </geometry>
    </visual>
    <collision>
      <origin rpy="0 0 0" xyz="0.0146875 0 0"/>
      <geometry>
        <box size="0.029375 0.028 0.0009"/>
      </geometry>
    </collision>
  </link>
  <gazebo reference="finger_2_segment_link_4">
    <material>Gazebo/Orange</material>
    <mu1>0.1</mu1>
    <mu2>0.1</mu2>
    <maxVel>0.0</maxVel>
    <minDepth>0.001</minDepth>
    <!-- <kp>100</kp>
        <kd>1</kd> -->
  </gazebo>
  <!-- bending joint -->
  <joint name="finger_2_segment_joint_3" type="revolute">
    <axis rpy="0 0 0" xyz="0 1 0"/>
    <parent link="finger_2_segment_link_3"/>
    <child link="finger_2_segment_link_4"/>
    <origin rpy="0 0 0" xyz="0.029375 0 0"/>
    <limit effort="1000.0" lower="-1.0" upper="1.0" velocity="1.0"/>
    <dynamics damping="0.01" friction="0.0"/>
  </joint>
  <gazebo reference="finger_2_segment_joint_3">
    <provideFeedback>1</provideFeedback>
    <springReference>0.0</springReference>
    <implicitSpringDamper>1</implicitSpringDamper>
    <springStiffness>3.0</springStiffness>
  </gazebo>
  <!-- set transmission for gazebo ROS controllers-->
  <transmission name="finger_2_segment_tran_3">
    <type>transmission_interface/SimpleTransmission</type>
    <joint name="finger_2_segment_joint_3">
      <hardwareInterface>hardware_interface/EffortJointInterface</hardwareInterface>
    </joint>
    <actuator name="finger_2_segment_motor_3">
      <hardwareInterface>hardware_interface/EffortJointInterface</hardwareInterface>
      <mechanicalReduction>1</mechanicalReduction>
    </actuator>
  </transmission>
  <link name="finger_2_segment_link_5">
    <inertial>
      <mass value="0.008159722222222221"/>
      <inertia ixx="2.668263165509259e-05" ixy="0.00" ixz="0.00" iyy="0.00011737666919849533" iyz="0.00" izz="0.00014400422272858792"/>
    </inertial>
    <visual>
      <origin rpy="0 0 0" xyz="0.0146875 0 0"/>
      <geometry>
        <box size="0.029375 0.028 0.0009"/>
      </geometry>
    </visual>
    <collision>
      <origin rpy="0 0 0" xyz="0.0146875 0 0"/>
      <geometry>
        <box size="0.029375 0.028 0.0009"/>
      </geometry>
    </collision>
  </link>
  <gazebo reference="finger_2_segment_link_5">
    <material>Gazebo/Orange</material>
    <mu1>0.1</mu1>
    <mu2>0.1</mu2>
    <maxVel>0.0</maxVel>
    <minDepth>0.001</minDepth>
    <!-- <kp>100</kp>
        <kd>1</kd> -->
  </gazebo>
  <!-- bending joint -->
  <joint name="finger_2_segment_joint_4" type="revolute">
    <axis rpy="0 0 0" xyz="0 1 0"/>
    <parent link="finger_2_segment_link_4"/>
    <child link="finger_2_segment_link_5"/>
    <origin rpy="0 0 0" xyz="0.029375 0 0"/>
    <limit effort="1000.0" lower="-1.0" upper="1.0" velocity="1.0"/>
    <dynamics damping="0.01" friction="0.0"/>
  </joint>
  <gazebo reference="finger_2_segment_joint_4">
    <provideFeedback>1</provideFeedback>
    <springReference>0.0</springReference>
    <implicitSpringDamper>1</implicitSpringDamper>
    <springStiffness>3.0</springStiffness>
  </gazebo>
  <!-- set transmission for gazebo ROS controllers-->
  <transmission name="finger_2_segment_tran_4">
    <type>transmission_interface/SimpleTransmission</type>
    <joint name="finger_2_segment_joint_4">
      <hardwareInterface>hardware_interface/EffortJointInterface</hardwareInterface>
    </joint>
    <actuator name="finger_2_segment_motor_4">
      <hardwareInterface>hardware_interface/EffortJointInterface</hardwareInterface>
      <mechanicalReduction>1</mechanicalReduction>
    </actuator>
  </transmission>
  <link name="finger_2_segment_link_6">
    <inertial>
      <mass value="0.008159722222222221"/>
      <inertia ixx="2.668263165509259e-05" ixy="0.00" ixz="0.00" iyy="0.00011737666919849533" iyz="0.00" izz="0.00014400422272858792"/>
    </inertial>
    <visual>
      <origin rpy="0 0 0" xyz="0.0146875 0 0"/>
      <geometry>
        <box size="0.029375 0.028 0.0009"/>
      </geometry>
    </visual>
    <collision>
      <origin rpy="0 0 0" xyz="0.0146875 0 0"/>
      <geometry>
        <box size="0.029375 0.028 0.0009"/>
      </geometry>
    </collision>
  </link>
  <gazebo reference="finger_2_segment_link_6">
    <material>Gazebo/Orange</material>
    <mu1>0.1</mu1>
    <mu2>0.1</mu2>
    <maxVel>0.0</maxVel>
    <minDepth>0.001</minDepth>
    <!-- <kp>100</kp>
        <kd>1</kd> -->
  </gazebo>
  <!-- bending joint -->
  <joint name="finger_2_segment_joint_5" type="revolute">
    <axis rpy="0 0 0" xyz="0 1 0"/>
    <parent link="finger_2_segment_link_5"/>
    <child link="finger_2_segment_link_6"/>
    <origin rpy="0 0 0" xyz="0.029375 0 0"/>
    <limit effort="1000.0" lower="-1.0" upper="1.0" velocity="1.0"/>
    <dynamics damping="0.01" friction="0.0"/>
  </joint>
  <gazebo reference="finger_2_segment_joint_5">
    <provideFeedback>1</provideFeedback>
    <springReference>0.0</springReference>
    <implicitSpringDamper>1</implicitSpringDamper>
    <springStiffness>3.0</springStiffness>
  </gazebo>
  <!-- set transmission for gazebo ROS controllers-->
  <transmission name="finger_2_segment_tran_5">
    <type>transmission_interface/SimpleTransmission</type>
    <joint name="finger_2_segment_joint_5">
      <hardwareInterface>hardware_interface/EffortJointInterface</hardwareInterface>
    </joint>
    <actuator name="finger_2_segment_motor_5">
      <hardwareInterface>hardware_interface/EffortJointInterface</hardwareInterface>
      <mechanicalReduction>1</mechanicalReduction>
    </actuator>
  </transmission>
  <link name="finger_2_segment_link_7">
    <inertial>
      <mass value="0.008159722222222221"/>
      <inertia ixx="2.668263165509259e-05" ixy="0.00" ixz="0.00" iyy="0.00011737666919849533" iyz="0.00" izz="0.00014400422272858792"/>
    </inertial>
    <visual>
      <origin rpy="0 0 0" xyz="0.0146875 0 0"/>
      <geometry>
        <box size="0.029375 0.028 0.0009"/>
      </geometry>
    </visual>
    <collision>
      <origin rpy="0 0 0" xyz="0.0146875 0 0"/>
      <geometry>
        <box size="0.029375 0.028 0.0009"/>
      </geometry>
    </collision>
  </link>
  <gazebo reference="finger_2_segment_link_7">
    <material>Gazebo/Orange</material>
    <mu1>0.1</mu1>
    <mu2>0.1</mu2>
    <maxVel>0.0</maxVel>
    <minDepth>0.001</minDepth>
    <!-- <kp>100</kp>
        <kd>1</kd> -->
  </gazebo>
  <!-- bending joint -->
  <joint name="finger_2_segment_joint_6" type="revolute">
    <axis rpy="0 0 0" xyz="0 1 0"/>
    <parent link="finger_2_segment_link_6"/>
    <child link="finger_2_segment_link_7"/>
    <origin rpy="0 0 0" xyz="0.029375 0 0"/>
    <limit effort="1000.0" lower="-1.0" upper="1.0" velocity="1.0"/>
    <dynamics damping="0.01" friction="0.0"/>
  </joint>
  <gazebo reference="finger_2_segment_joint_6">
    <provideFeedback>1</provideFeedback>
    <springReference>0.0</springReference>
    <implicitSpringDamper>1</implicitSpringDamper>
    <springStiffness>3.0</springStiffness>
  </gazebo>
  <!-- set transmission for gazebo ROS controllers-->
  <transmission name="finger_2_segment_tran_6">
    <type>transmission_interface/SimpleTransmission</type>
    <joint name="finger_2_segment_joint_6">
      <hardwareInterface>hardware_interface/EffortJointInterface</hardwareInterface>
    </joint>
    <actuator name="finger_2_segment_motor_6">
      <hardwareInterface>hardware_interface/EffortJointInterface</hardwareInterface>
      <mechanicalReduction>1</mechanicalReduction>
    </actuator>
  </transmission>
  <link name="finger_2_segment_link_8">
    <inertial>
      <mass value="0.008159722222222221"/>
      <inertia ixx="2.668263165509259e-05" ixy="0.00" ixz="0.00" iyy="0.00011737666919849533" iyz="0.00" izz="0.00014400422272858792"/>
    </inertial>
    <visual>
      <origin rpy="0 0 0" xyz="0.0146875 0 0"/>
      <geometry>
        <box size="0.029375 0.028 0.0009"/>
      </geometry>
    </visual>
    <collision>
      <origin rpy="0 0 0" xyz="0.0146875 0 0"/>
      <geometry>
        <box size="0.029375 0.028 0.0009"/>
      </geometry>
    </collision>
  </link>
  <gazebo reference="finger_2_segment_link_8">
    <material>Gazebo/Orange</material>
    <mu1>0.1</mu1>
    <mu2>0.1</mu2>
    <maxVel>0.0</maxVel>
    <minDepth>0.001</minDepth>
    <!-- <kp>100</kp>
        <kd>1</kd> -->
  </gazebo>
  <!-- bending joint -->
  <joint name="finger_2_segment_joint_7" type="revolute">
    <axis rpy="0 0 0" xyz="0 1 0"/>
    <parent link="finger_2_segment_link_7"/>
    <child link="finger_2_segment_link_8"/>
    <origin rpy="0 0 0" xyz="0.029375 0 0"/>
    <limit effort="1000.0" lower="-1.0" upper="1.0" velocity="1.0"/>
    <dynamics damping="0.01" friction="0.0"/>
  </joint>
  <gazebo reference="finger_2_segment_joint_7">
    <provideFeedback>1</provideFeedback>
    <springReference>0.0</springReference>
    <implicitSpringDamper>1</implicitSpringDamper>
    <springStiffness>3.0</springStiffness>
  </gazebo>
  <!-- set transmission for gazebo ROS controllers-->
  <transmission name="finger_2_segment_tran_7">
    <type>transmission_interface/SimpleTransmission</type>
    <joint name="finger_2_segment_joint_7">
      <hardwareInterface>hardware_interface/EffortJointInterface</hardwareInterface>
    </joint>
    <actuator name="finger_2_segment_motor_7">
      <hardwareInterface>hardware_interface/EffortJointInterface</hardwareInterface>
      <mechanicalReduction>1</mechanicalReduction>
    </actuator>
  </transmission>
  <!-- Add the finger hook link -->
  <link name="finger_2_finger_hook_link">
    <inertial>
      <mass value="0.009722222222222222"/>
      <inertia ixx="3.179207175925926e-05" ixy="0.00" ixz="0.00" iyy="0.00019852818287037038" iyz="0.00" izz="0.00023025462962962965"/>
    </inertial>
    <visual>
      <origin rpy="0 0 0" xyz="0.0175 0 0"/>
      <geometry>
        <box size="0.035 0.028 0.0009"/>
      </geometry>
    </visual>
    <collision>
      <origin rpy="0 0 0" xyz="0.0175 0 0"/>
      <geometry>
        <box size="0.035 0.028 0.0009"/>
      </geometry>
    </collision>
  </link>
  <gazebo reference="finger_2_finger_hook_link">
    <material>Gazebo/Orange</material>
    <mu1>0.1</mu1>
    <mu2>0.1</mu2>
    <maxVel>0.0</maxVel>
    <minDepth>0.001</minDepth>
    <!-- <kp>100</kp>
        <kd>1</kd> -->
  </gazebo>
  <joint name="finger_2_finger_hook_joint" type="fixed">
    <parent link="finger_2_segment_link_8"/>
    <child link="finger_2_finger_hook_link"/>
    <origin rpy="0 -1.5707963267948502 0" xyz="0.029375 0 0"/>
  </joint>
  <!-- PARAMETERS TO BE SET BY HAND -->
  <!-- END OF PARAMETERS TO BE SET BY HAND -->
  <joint name="finger_3_segment_joint_0" type="revolute">
    <origin rpy="1.5707963267948966 0 0" xyz="0.129 -0.007 0"/>
    <parent link="finger_3"/>
    <child link="finger_3_segment_link_1"/>
    <axis rpy="0 0 0" xyz="0 1 0"/>
    <limit effort="1000.0" lower="-1.0" upper="1.0" velocity="1.0"/>
    <dynamics damping="0.01" friction="0.0"/>
  </joint>
  <!-- END TESTING OF BASE JOINT (rather than fixed) -->
  <link name="finger_3_segment_link_1">
    <inertial>
      <mass value="0.008159722222222221"/>
      <inertia ixx="2.668263165509259e-05" ixy="0.00" ixz="0.00" iyy="0.00011737666919849533" iyz="0.00" izz="0.00014400422272858792"/>
    </inertial>
    <visual>
      <origin rpy="0 0 0" xyz="0.0146875 0 0"/>
      <geometry>
        <box size="0.029375 0.028 0.0009"/>
      </geometry>
    </visual>
    <collision>
      <origin rpy="0 0 0" xyz="0.0146875 0 0"/>
      <geometry>
        <box size="0.029375 0.028 0.0009"/>
      </geometry>
    </collision>
  </link>
  <gazebo reference="finger_3_segment_link_1">
    <material>Gazebo/Orange</material>
    <mu1>0.1</mu1>
    <mu2>0.1</mu2>
    <maxVel>0.0</maxVel>
    <minDepth>0.001</minDepth>
    <!-- <kp>100</kp>
        <kd>1</kd> -->
  </gazebo>
  <link name="finger_3_segment_link_2">
    <inertial>
      <mass value="0.008159722222222221"/>
      <inertia ixx="2.668263165509259e-05" ixy="0.00" ixz="0.00" iyy="0.00011737666919849533" iyz="0.00" izz="0.00014400422272858792"/>
    </inertial>
    <visual>
      <origin rpy="0 0 0" xyz="0.0146875 0 0"/>
      <geometry>
        <box size="0.029375 0.028 0.0009"/>
      </geometry>
    </visual>
    <collision>
      <origin rpy="0 0 0" xyz="0.0146875 0 0"/>
      <geometry>
        <box size="0.029375 0.028 0.0009"/>
      </geometry>
    </collision>
  </link>
  <gazebo reference="finger_3_segment_link_2">
    <material>Gazebo/Orange</material>
    <mu1>0.1</mu1>
    <mu2>0.1</mu2>
    <maxVel>0.0</maxVel>
    <minDepth>0.001</minDepth>
    <!-- <kp>100</kp>
        <kd>1</kd> -->
  </gazebo>
  <!-- bending joint -->
  <joint name="finger_3_segment_joint_1" type="revolute">
    <axis rpy="0 0 0" xyz="0 1 0"/>
    <parent link="finger_3_segment_link_1"/>
    <child link="finger_3_segment_link_2"/>
    <origin rpy="0 0 0" xyz="0.029375 0 0"/>
    <limit effort="1000.0" lower="-1.0" upper="1.0" velocity="1.0"/>
    <dynamics damping="0.01" friction="0.0"/>
  </joint>
  <gazebo reference="finger_3_segment_joint_1">
    <provideFeedback>1</provideFeedback>
    <springReference>0.0</springReference>
    <implicitSpringDamper>1</implicitSpringDamper>
    <springStiffness>3.0</springStiffness>
  </gazebo>
  <!-- set transmission for gazebo ROS controllers-->
  <transmission name="finger_3_segment_tran_1">
    <type>transmission_interface/SimpleTransmission</type>
    <joint name="finger_3_segment_joint_1">
      <hardwareInterface>hardware_interface/EffortJointInterface</hardwareInterface>
    </joint>
    <actuator name="finger_3_segment_motor_1">
      <hardwareInterface>hardware_interface/EffortJointInterface</hardwareInterface>
      <mechanicalReduction>1</mechanicalReduction>
    </actuator>
  </transmission>
  <link name="finger_3_segment_link_3">
    <inertial>
      <mass value="0.008159722222222221"/>
      <inertia ixx="2.668263165509259e-05" ixy="0.00" ixz="0.00" iyy="0.00011737666919849533" iyz="0.00" izz="0.00014400422272858792"/>
    </inertial>
    <visual>
      <origin rpy="0 0 0" xyz="0.0146875 0 0"/>
      <geometry>
        <box size="0.029375 0.028 0.0009"/>
      </geometry>
    </visual>
    <collision>
      <origin rpy="0 0 0" xyz="0.0146875 0 0"/>
      <geometry>
        <box size="0.029375 0.028 0.0009"/>
      </geometry>
    </collision>
  </link>
  <gazebo reference="finger_3_segment_link_3">
    <material>Gazebo/Orange</material>
    <mu1>0.1</mu1>
    <mu2>0.1</mu2>
    <maxVel>0.0</maxVel>
    <minDepth>0.001</minDepth>
    <!-- <kp>100</kp>
        <kd>1</kd> -->
  </gazebo>
  <!-- bending joint -->
  <joint name="finger_3_segment_joint_2" type="revolute">
    <axis rpy="0 0 0" xyz="0 1 0"/>
    <parent link="finger_3_segment_link_2"/>
    <child link="finger_3_segment_link_3"/>
    <origin rpy="0 0 0" xyz="0.029375 0 0"/>
    <limit effort="1000.0" lower="-1.0" upper="1.0" velocity="1.0"/>
    <dynamics damping="0.01" friction="0.0"/>
  </joint>
  <gazebo reference="finger_3_segment_joint_2">
    <provideFeedback>1</provideFeedback>
    <springReference>0.0</springReference>
    <implicitSpringDamper>1</implicitSpringDamper>
    <springStiffness>3.0</springStiffness>
  </gazebo>
  <!-- set transmission for gazebo ROS controllers-->
  <transmission name="finger_3_segment_tran_2">
    <type>transmission_interface/SimpleTransmission</type>
    <joint name="finger_3_segment_joint_2">
      <hardwareInterface>hardware_interface/EffortJointInterface</hardwareInterface>
    </joint>
    <actuator name="finger_3_segment_motor_2">
      <hardwareInterface>hardware_interface/EffortJointInterface</hardwareInterface>
      <mechanicalReduction>1</mechanicalReduction>
    </actuator>
  </transmission>
  <link name="finger_3_segment_link_4">
    <inertial>
      <mass value="0.008159722222222221"/>
      <inertia ixx="2.668263165509259e-05" ixy="0.00" ixz="0.00" iyy="0.00011737666919849533" iyz="0.00" izz="0.00014400422272858792"/>
    </inertial>
    <visual>
      <origin rpy="0 0 0" xyz="0.0146875 0 0"/>
      <geometry>
        <box size="0.029375 0.028 0.0009"/>
      </geometry>
    </visual>
    <collision>
      <origin rpy="0 0 0" xyz="0.0146875 0 0"/>
      <geometry>
        <box size="0.029375 0.028 0.0009"/>
      </geometry>
    </collision>
  </link>
  <gazebo reference="finger_3_segment_link_4">
    <material>Gazebo/Orange</material>
    <mu1>0.1</mu1>
    <mu2>0.1</mu2>
    <maxVel>0.0</maxVel>
    <minDepth>0.001</minDepth>
    <!-- <kp>100</kp>
        <kd>1</kd> -->
  </gazebo>
  <!-- bending joint -->
  <joint name="finger_3_segment_joint_3" type="revolute">
    <axis rpy="0 0 0" xyz="0 1 0"/>
    <parent link="finger_3_segment_link_3"/>
    <child link="finger_3_segment_link_4"/>
    <origin rpy="0 0 0" xyz="0.029375 0 0"/>
    <limit effort="1000.0" lower="-1.0" upper="1.0" velocity="1.0"/>
    <dynamics damping="0.01" friction="0.0"/>
  </joint>
  <gazebo reference="finger_3_segment_joint_3">
    <provideFeedback>1</provideFeedback>
    <springReference>0.0</springReference>
    <implicitSpringDamper>1</implicitSpringDamper>
    <springStiffness>3.0</springStiffness>
  </gazebo>
  <!-- set transmission for gazebo ROS controllers-->
  <transmission name="finger_3_segment_tran_3">
    <type>transmission_interface/SimpleTransmission</type>
    <joint name="finger_3_segment_joint_3">
      <hardwareInterface>hardware_interface/EffortJointInterface</hardwareInterface>
    </joint>
    <actuator name="finger_3_segment_motor_3">
      <hardwareInterface>hardware_interface/EffortJointInterface</hardwareInterface>
      <mechanicalReduction>1</mechanicalReduction>
    </actuator>
  </transmission>
  <link name="finger_3_segment_link_5">
    <inertial>
      <mass value="0.008159722222222221"/>
      <inertia ixx="2.668263165509259e-05" ixy="0.00" ixz="0.00" iyy="0.00011737666919849533" iyz="0.00" izz="0.00014400422272858792"/>
    </inertial>
    <visual>
      <origin rpy="0 0 0" xyz="0.0146875 0 0"/>
      <geometry>
        <box size="0.029375 0.028 0.0009"/>
      </geometry>
    </visual>
    <collision>
      <origin rpy="0 0 0" xyz="0.0146875 0 0"/>
      <geometry>
        <box size="0.029375 0.028 0.0009"/>
      </geometry>
    </collision>
  </link>
  <gazebo reference="finger_3_segment_link_5">
    <material>Gazebo/Orange</material>
    <mu1>0.1</mu1>
    <mu2>0.1</mu2>
    <maxVel>0.0</maxVel>
    <minDepth>0.001</minDepth>
    <!-- <kp>100</kp>
        <kd>1</kd> -->
  </gazebo>
  <!-- bending joint -->
  <joint name="finger_3_segment_joint_4" type="revolute">
    <axis rpy="0 0 0" xyz="0 1 0"/>
    <parent link="finger_3_segment_link_4"/>
    <child link="finger_3_segment_link_5"/>
    <origin rpy="0 0 0" xyz="0.029375 0 0"/>
    <limit effort="1000.0" lower="-1.0" upper="1.0" velocity="1.0"/>
    <dynamics damping="0.01" friction="0.0"/>
  </joint>
  <gazebo reference="finger_3_segment_joint_4">
    <provideFeedback>1</provideFeedback>
    <springReference>0.0</springReference>
    <implicitSpringDamper>1</implicitSpringDamper>
    <springStiffness>3.0</springStiffness>
  </gazebo>
  <!-- set transmission for gazebo ROS controllers-->
  <transmission name="finger_3_segment_tran_4">
    <type>transmission_interface/SimpleTransmission</type>
    <joint name="finger_3_segment_joint_4">
      <hardwareInterface>hardware_interface/EffortJointInterface</hardwareInterface>
    </joint>
    <actuator name="finger_3_segment_motor_4">
      <hardwareInterface>hardware_interface/EffortJointInterface</hardwareInterface>
      <mechanicalReduction>1</mechanicalReduction>
    </actuator>
  </transmission>
  <link name="finger_3_segment_link_6">
    <inertial>
      <mass value="0.008159722222222221"/>
      <inertia ixx="2.668263165509259e-05" ixy="0.00" ixz="0.00" iyy="0.00011737666919849533" iyz="0.00" izz="0.00014400422272858792"/>
    </inertial>
    <visual>
      <origin rpy="0 0 0" xyz="0.0146875 0 0"/>
      <geometry>
        <box size="0.029375 0.028 0.0009"/>
      </geometry>
    </visual>
    <collision>
      <origin rpy="0 0 0" xyz="0.0146875 0 0"/>
      <geometry>
        <box size="0.029375 0.028 0.0009"/>
      </geometry>
    </collision>
  </link>
  <gazebo reference="finger_3_segment_link_6">
    <material>Gazebo/Orange</material>
    <mu1>0.1</mu1>
    <mu2>0.1</mu2>
    <maxVel>0.0</maxVel>
    <minDepth>0.001</minDepth>
    <!-- <kp>100</kp>
        <kd>1</kd> -->
  </gazebo>
  <!-- bending joint -->
  <joint name="finger_3_segment_joint_5" type="revolute">
    <axis rpy="0 0 0" xyz="0 1 0"/>
    <parent link="finger_3_segment_link_5"/>
    <child link="finger_3_segment_link_6"/>
    <origin rpy="0 0 0" xyz="0.029375 0 0"/>
    <limit effort="1000.0" lower="-1.0" upper="1.0" velocity="1.0"/>
    <dynamics damping="0.01" friction="0.0"/>
  </joint>
  <gazebo reference="finger_3_segment_joint_5">
    <provideFeedback>1</provideFeedback>
    <springReference>0.0</springReference>
    <implicitSpringDamper>1</implicitSpringDamper>
    <springStiffness>3.0</springStiffness>
  </gazebo>
  <!-- set transmission for gazebo ROS controllers-->
  <transmission name="finger_3_segment_tran_5">
    <type>transmission_interface/SimpleTransmission</type>
    <joint name="finger_3_segment_joint_5">
      <hardwareInterface>hardware_interface/EffortJointInterface</hardwareInterface>
    </joint>
    <actuator name="finger_3_segment_motor_5">
      <hardwareInterface>hardware_interface/EffortJointInterface</hardwareInterface>
      <mechanicalReduction>1</mechanicalReduction>
    </actuator>
  </transmission>
  <link name="finger_3_segment_link_7">
    <inertial>
      <mass value="0.008159722222222221"/>
      <inertia ixx="2.668263165509259e-05" ixy="0.00" ixz="0.00" iyy="0.00011737666919849533" iyz="0.00" izz="0.00014400422272858792"/>
    </inertial>
    <visual>
      <origin rpy="0 0 0" xyz="0.0146875 0 0"/>
      <geometry>
        <box size="0.029375 0.028 0.0009"/>
      </geometry>
    </visual>
    <collision>
      <origin rpy="0 0 0" xyz="0.0146875 0 0"/>
      <geometry>
        <box size="0.029375 0.028 0.0009"/>
      </geometry>
    </collision>
  </link>
  <gazebo reference="finger_3_segment_link_7">
    <material>Gazebo/Orange</material>
    <mu1>0.1</mu1>
    <mu2>0.1</mu2>
    <maxVel>0.0</maxVel>
    <minDepth>0.001</minDepth>
    <!-- <kp>100</kp>
        <kd>1</kd> -->
  </gazebo>
  <!-- bending joint -->
  <joint name="finger_3_segment_joint_6" type="revolute">
    <axis rpy="0 0 0" xyz="0 1 0"/>
    <parent link="finger_3_segment_link_6"/>
    <child link="finger_3_segment_link_7"/>
    <origin rpy="0 0 0" xyz="0.029375 0 0"/>
    <limit effort="1000.0" lower="-1.0" upper="1.0" velocity="1.0"/>
    <dynamics damping="0.01" friction="0.0"/>
  </joint>
  <gazebo reference="finger_3_segment_joint_6">
    <provideFeedback>1</provideFeedback>
    <springReference>0.0</springReference>
    <implicitSpringDamper>1</implicitSpringDamper>
    <springStiffness>3.0</springStiffness>
  </gazebo>
  <!-- set transmission for gazebo ROS controllers-->
  <transmission name="finger_3_segment_tran_6">
    <type>transmission_interface/SimpleTransmission</type>
    <joint name="finger_3_segment_joint_6">
      <hardwareInterface>hardware_interface/EffortJointInterface</hardwareInterface>
    </joint>
    <actuator name="finger_3_segment_motor_6">
      <hardwareInterface>hardware_interface/EffortJointInterface</hardwareInterface>
      <mechanicalReduction>1</mechanicalReduction>
    </actuator>
  </transmission>
  <link name="finger_3_segment_link_8">
    <inertial>
      <mass value="0.008159722222222221"/>
      <inertia ixx="2.668263165509259e-05" ixy="0.00" ixz="0.00" iyy="0.00011737666919849533" iyz="0.00" izz="0.00014400422272858792"/>
    </inertial>
    <visual>
      <origin rpy="0 0 0" xyz="0.0146875 0 0"/>
      <geometry>
        <box size="0.029375 0.028 0.0009"/>
      </geometry>
    </visual>
    <collision>
      <origin rpy="0 0 0" xyz="0.0146875 0 0"/>
      <geometry>
        <box size="0.029375 0.028 0.0009"/>
      </geometry>
    </collision>
  </link>
  <gazebo reference="finger_3_segment_link_8">
    <material>Gazebo/Orange</material>
    <mu1>0.1</mu1>
    <mu2>0.1</mu2>
    <maxVel>0.0</maxVel>
    <minDepth>0.001</minDepth>
    <!-- <kp>100</kp>
        <kd>1</kd> -->
  </gazebo>
  <!-- bending joint -->
  <joint name="finger_3_segment_joint_7" type="revolute">
    <axis rpy="0 0 0" xyz="0 1 0"/>
    <parent link="finger_3_segment_link_7"/>
    <child link="finger_3_segment_link_8"/>
    <origin rpy="0 0 0" xyz="0.029375 0 0"/>
    <limit effort="1000.0" lower="-1.0" upper="1.0" velocity="1.0"/>
    <dynamics damping="0.01" friction="0.0"/>
  </joint>
  <gazebo reference="finger_3_segment_joint_7">
    <provideFeedback>1</provideFeedback>
    <springReference>0.0</springReference>
    <implicitSpringDamper>1</implicitSpringDamper>
    <springStiffness>3.0</springStiffness>
  </gazebo>
  <!-- set transmission for gazebo ROS controllers-->
  <transmission name="finger_3_segment_tran_7">
    <type>transmission_interface/SimpleTransmission</type>
    <joint name="finger_3_segment_joint_7">
      <hardwareInterface>hardware_interface/EffortJointInterface</hardwareInterface>
    </joint>
    <actuator name="finger_3_segment_motor_7">
      <hardwareInterface>hardware_interface/EffortJointInterface</hardwareInterface>
      <mechanicalReduction>1</mechanicalReduction>
    </actuator>
  </transmission>
  <!-- Add the finger hook link -->
  <link name="finger_3_finger_hook_link">
    <inertial>
      <mass value="0.009722222222222222"/>
      <inertia ixx="3.179207175925926e-05" ixy="0.00" ixz="0.00" iyy="0.00019852818287037038" iyz="0.00" izz="0.00023025462962962965"/>
    </inertial>
    <visual>
      <origin rpy="0 0 0" xyz="0.0175 0 0"/>
      <geometry>
        <box size="0.035 0.028 0.0009"/>
      </geometry>
    </visual>
    <collision>
      <origin rpy="0 0 0" xyz="0.0175 0 0"/>
      <geometry>
        <box size="0.035 0.028 0.0009"/>
      </geometry>
    </collision>
  </link>
  <gazebo reference="finger_3_finger_hook_link">
    <material>Gazebo/Orange</material>
    <mu1>0.1</mu1>
    <mu2>0.1</mu2>
    <maxVel>0.0</maxVel>
    <minDepth>0.001</minDepth>
    <!-- <kp>100</kp>
        <kd>1</kd> -->
  </gazebo>
  <joint name="finger_3_finger_hook_joint" type="fixed">
    <parent link="finger_3_segment_link_8"/>
    <child link="finger_3_finger_hook_link"/>
    <origin rpy="0 -1.5707963267948502 0" xyz="0.029375 0 0"/>
  </joint>
  <gazebo>
    <plugin filename="libfinger_controller_plugin.so" name="finger_controller_plugin"/>
  </gazebo>
  <!-- attach gripper to the ground for gazebo -->
  <link name="world"/>
  <joint name="world_to_base" type="fixed">
    <origin rpy="3.141592653589793 0 0" xyz="0 0 1"/>
    <parent link="world"/>
    <child link="gripper_base_link"/>
  </joint>
</robot>
